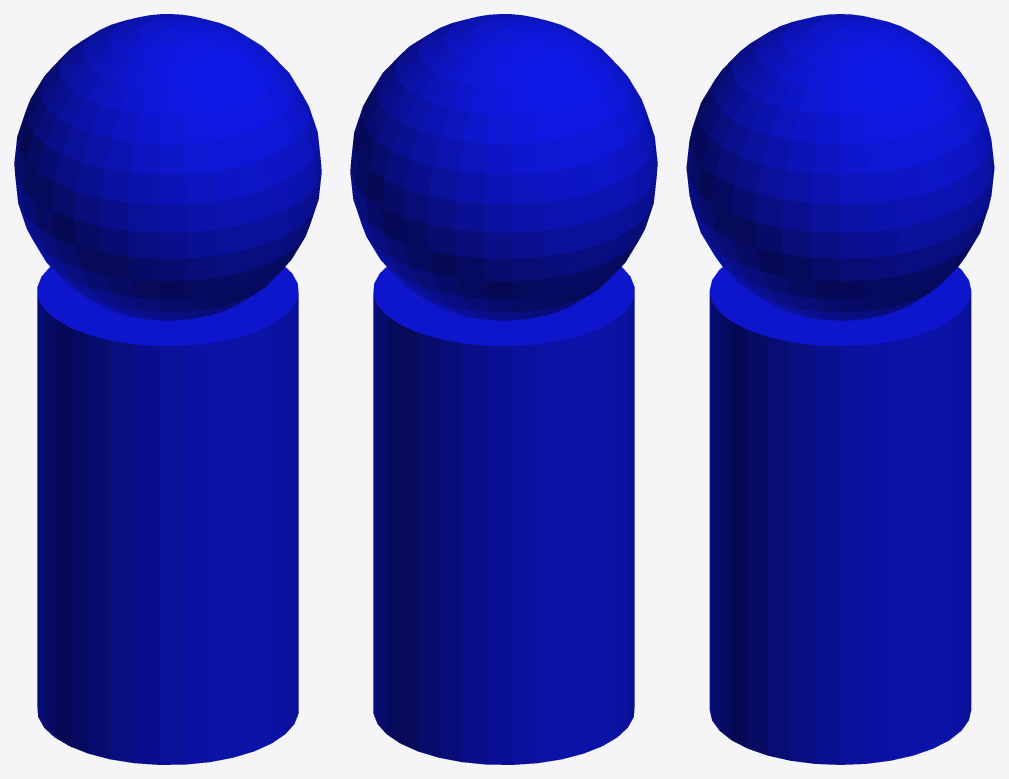
File: testBlue.dae
3 renders of one model, left to right at view 1: azimuth 30°, elevation 25°; view 2: azimuth 150°, elevation 25°; view 3: azimuth 270°, elevation 25°, orthographic.
Parts seen in each view (by area): view 1: Sphere; view 2: Sphere; view 3: Sphere.
Part boxes in pixels (left/top/right/bottom): Sphere: left=14, top=14, right=321, bottom=764; Sphere: left=350, top=14, right=657, bottom=764; Sphere: left=686, top=14, right=994, bottom=764.
Bounding box in the file's own units: 2 × 2 × 4.88.
